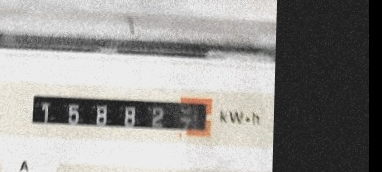1: (38, 100, 52, 122)
2: (148, 105, 165, 129)
5: (66, 100, 80, 126)
7: (178, 112, 191, 130)
8: (122, 104, 136, 128), (94, 103, 107, 126)
screen: (22, 85, 221, 146)
